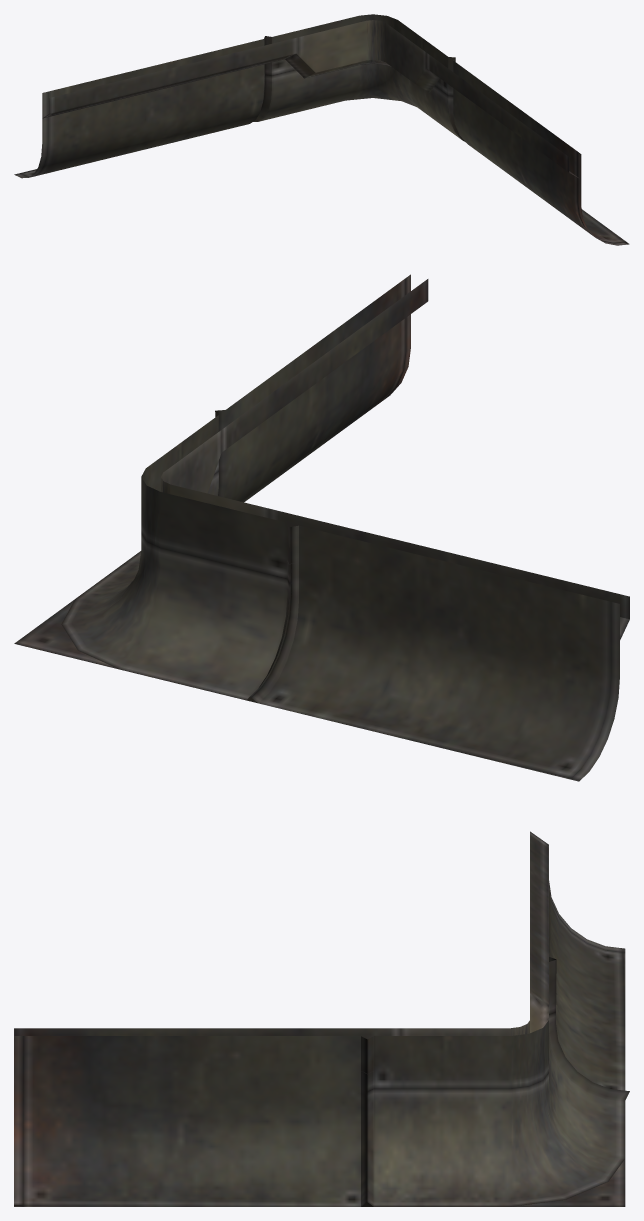
File: welder_ceiling_concave_pplant.dae
The picture shows the model from 3 angles, top to bottom: view 1: azimuth 30°, elevation 25°; view 2: azimuth 150°, elevation 25°; view 3: azimuth 270°, elevation 25°; orthographic projection. The views are drawn at different scales.
Parts seen in each view (by area): view 1: welder_ceiling_concave_pplant; view 2: welder_ceiling_concave_pplant; view 3: welder_ceiling_concave_pplant.
Part boxes in pixels (<box>): welder_ceiling_concave_pplant: <box>14,14,629,245</box>; welder_ceiling_concave_pplant: <box>14,274,629,781</box>; welder_ceiling_concave_pplant: <box>14,831,629,1206</box>.
Bounding box in the file's own units: 2.02 × 0.5 × 2.02.
